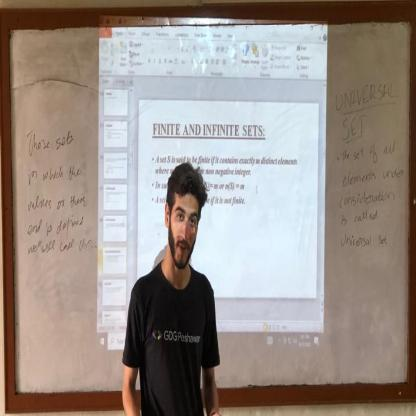Handwritten text: (332, 77, 401, 109), (23, 124, 83, 159), (337, 139, 405, 165), (23, 189, 91, 213), (24, 159, 86, 184), (339, 230, 388, 259), (337, 167, 407, 187), (336, 187, 401, 208), (24, 214, 86, 235), (333, 111, 369, 141), (334, 210, 383, 227)
Lecturer: (112, 155, 243, 416)
Whiteboard: (5, 14, 416, 396)
